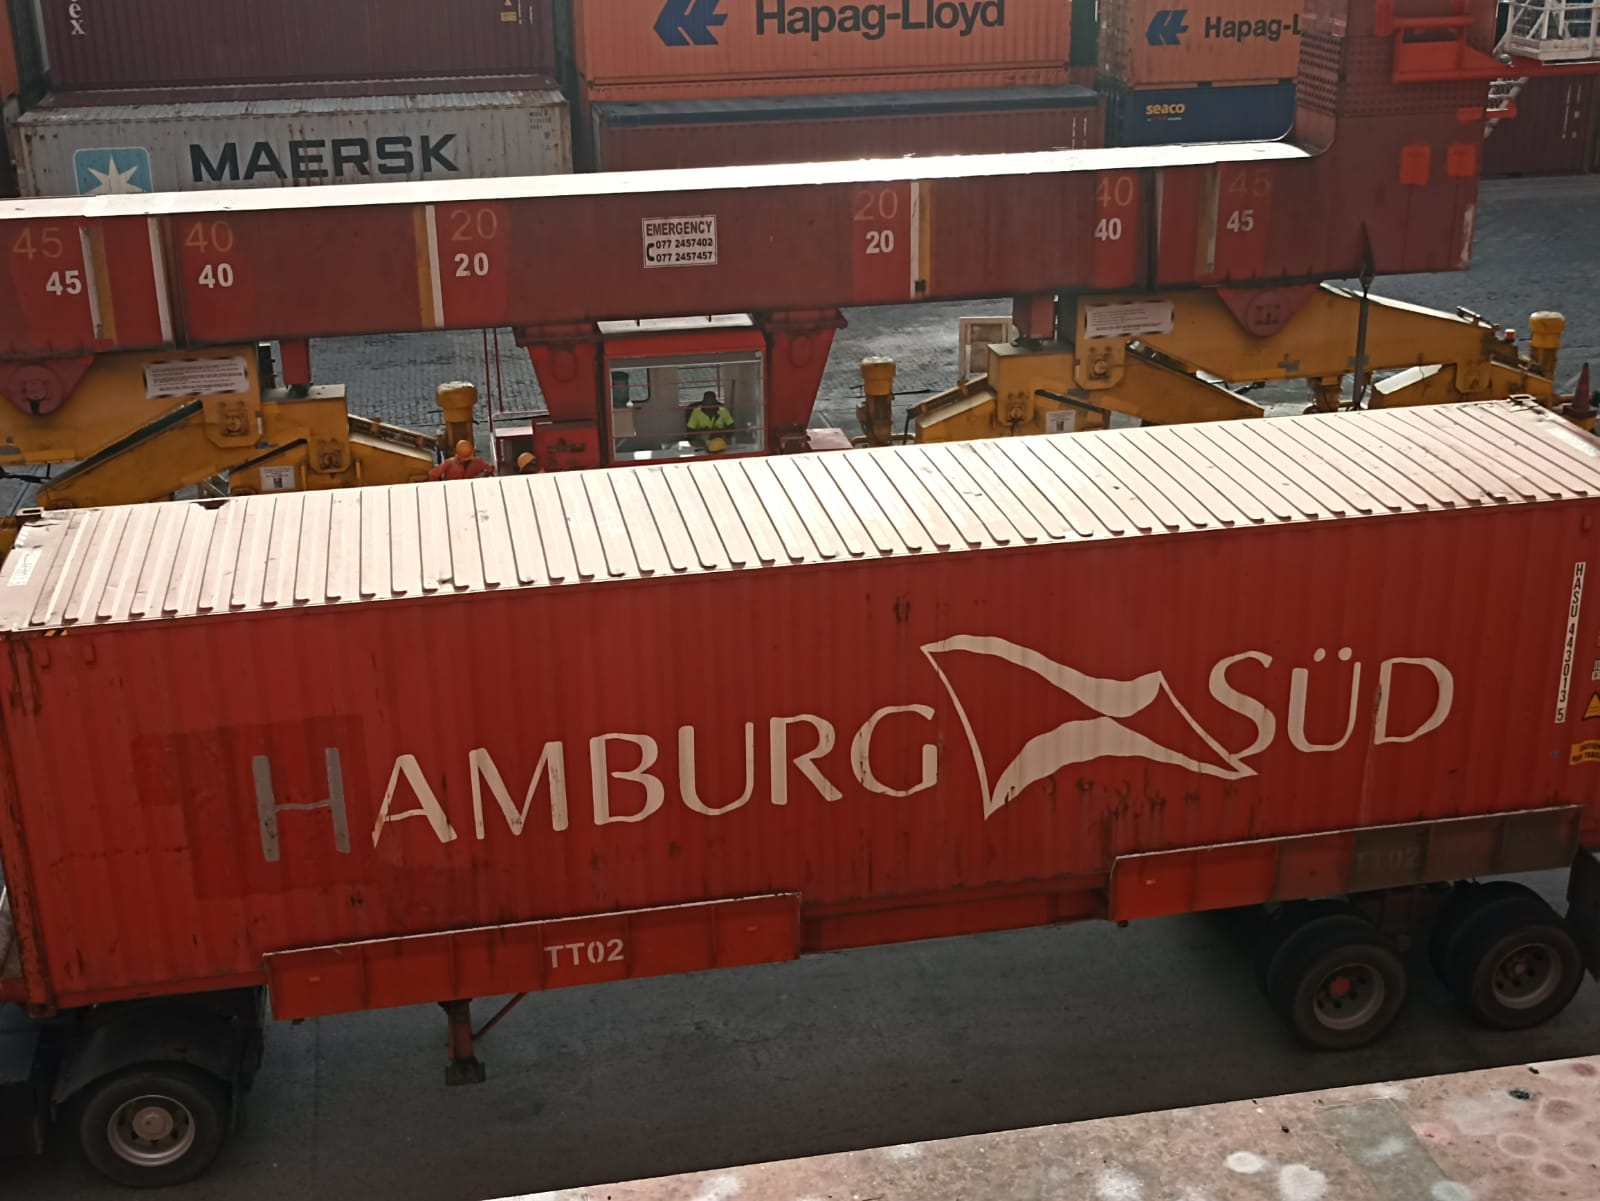right_side: (6, 495, 1587, 980)
top_side: (1, 382, 1592, 646)
